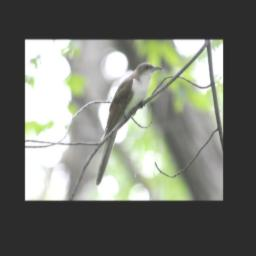Cuckoo: (93, 60, 163, 188)
